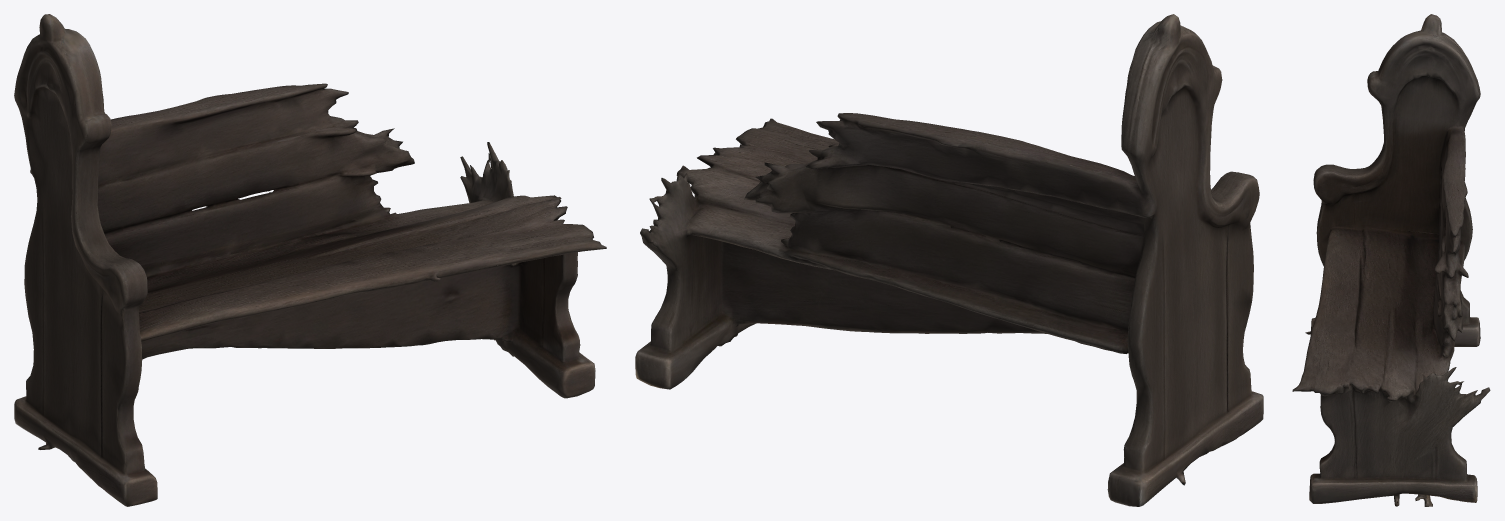
Rendered from pew_broken.glb.
3 views of the same model, side by side, from view 1: azimuth 30°, elevation 25°; view 2: azimuth 150°, elevation 25°; view 3: azimuth 270°, elevation 25° (orthographic). The views are drawn at different scales.
Size of the model in its own units: 2 by 1.69 by 0.9315.
1 material, 1 textured.
